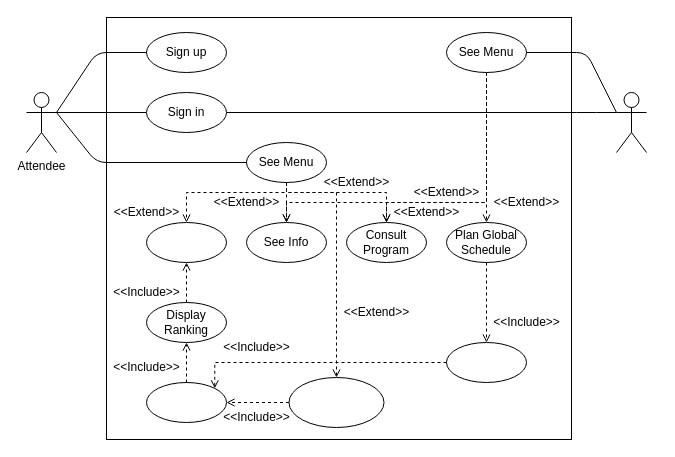
Some shapes in this 675 by 457 pixel diagram are drawn without their labels. The centre of each missing label's shape, as x and y in pixels:
"Check Personal Schedule" belongs at point 336,402.
"Check Preferences" belongs at point 486,362.
"Fill the Survey" belongs at point 186,242.
"Organizer" belongs at point 631,122.
"Select Lectures" belongs at point 186,402.
